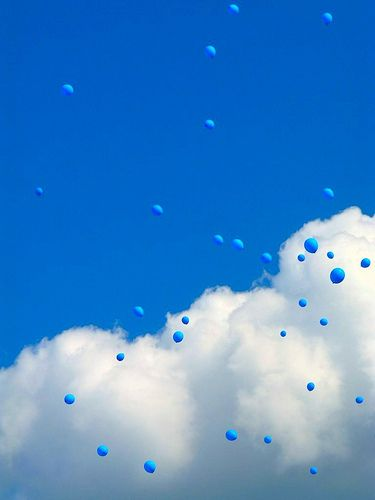Balloon: (319, 12, 334, 28), (304, 238, 319, 254), (330, 268, 345, 284), (143, 459, 157, 474), (203, 45, 217, 59), (225, 3, 240, 16), (229, 238, 244, 251), (321, 187, 334, 201), (150, 203, 164, 216), (60, 83, 74, 96), (225, 429, 238, 441), (203, 118, 215, 130), (172, 331, 184, 343), (261, 252, 272, 264), (133, 306, 144, 318), (213, 234, 224, 245), (64, 394, 75, 405), (360, 257, 371, 268), (97, 446, 108, 456), (319, 317, 328, 327), (298, 298, 307, 307), (35, 187, 44, 196), (116, 352, 125, 361), (355, 395, 364, 404), (263, 435, 272, 444), (309, 466, 318, 475), (181, 316, 189, 325), (307, 382, 314, 391), (327, 251, 334, 259), (298, 254, 305, 261), (280, 330, 286, 337)
